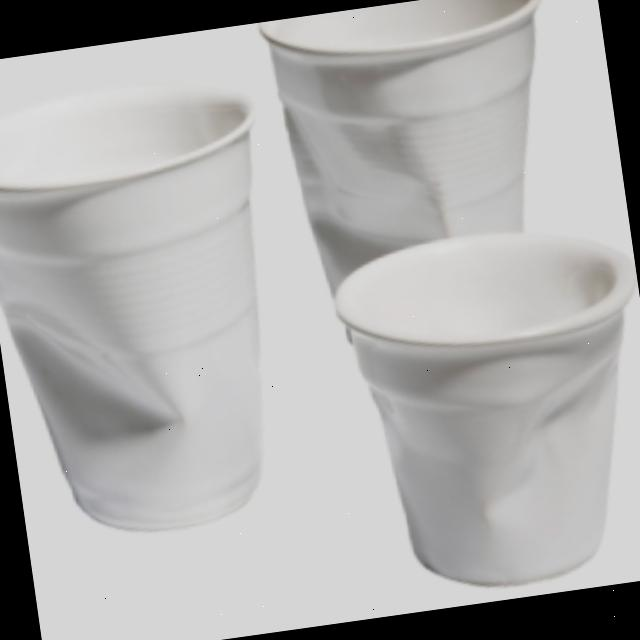trash: (0, 72, 320, 549), (326, 212, 640, 604)
